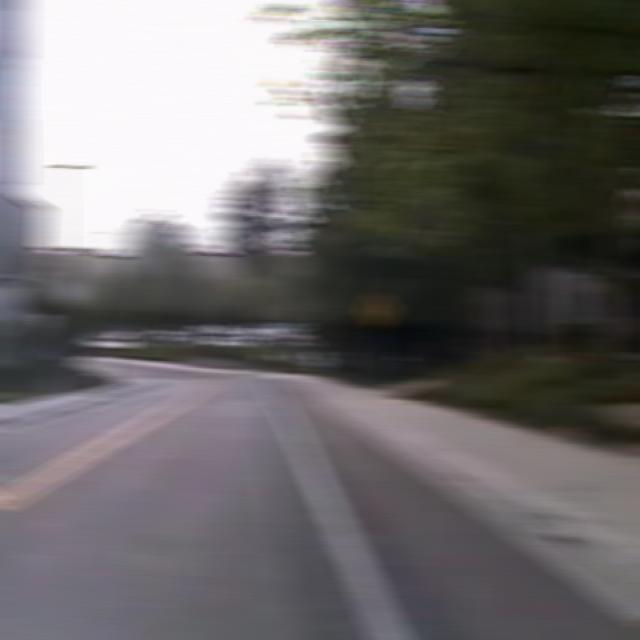pedestrianCrossing: (358, 290, 396, 330)
